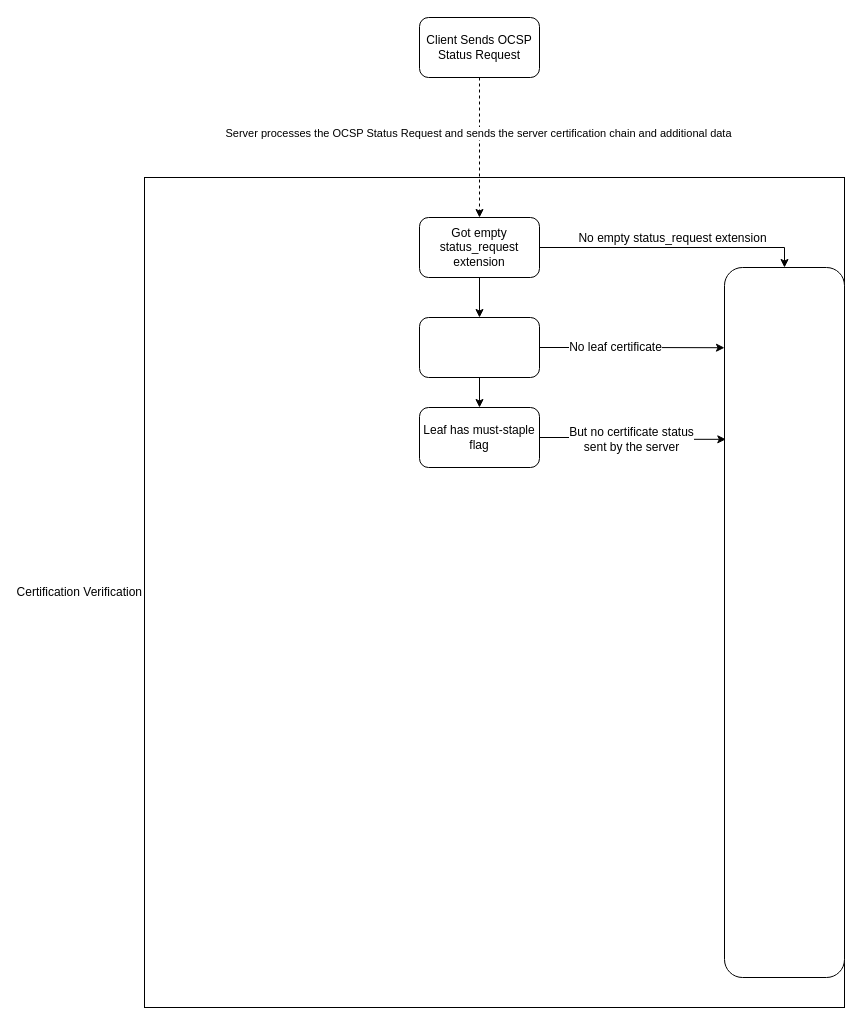
Image size: 862x1025. Some labels were removed from this diagram. The shapes that lost their labels are listed below. From the top down, each one's centre as x and y in pixels, then its label:
the point at 479,347: Has leaf certificate
the point at 784,622: Certification Verification Failure
